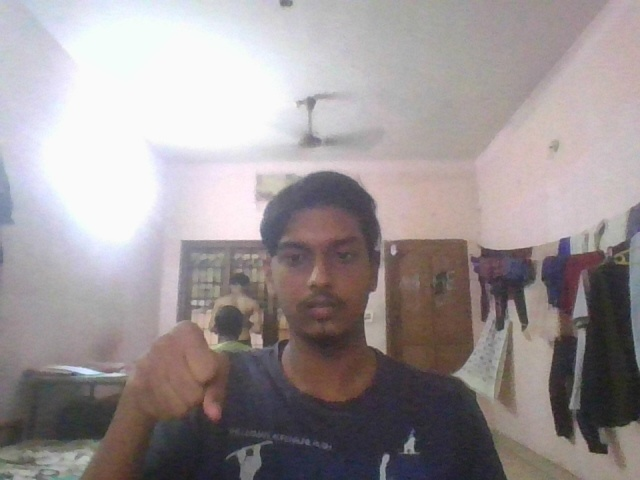yes: (115, 316, 233, 426)
